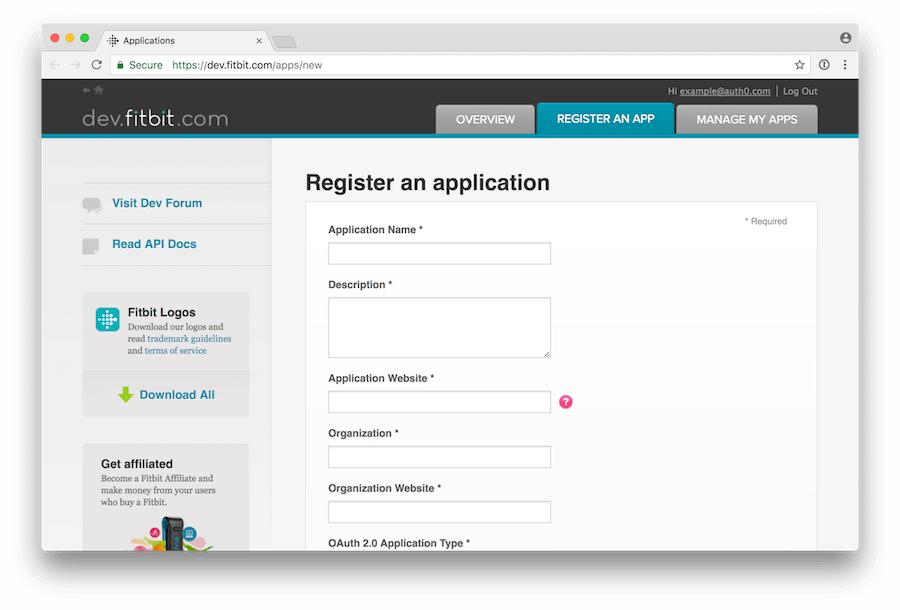button: (676, 98, 821, 142), (535, 98, 676, 138), (431, 101, 537, 142)
textbox: (322, 294, 562, 370), (327, 238, 559, 273), (328, 388, 555, 420), (326, 444, 561, 473), (327, 498, 557, 524)
